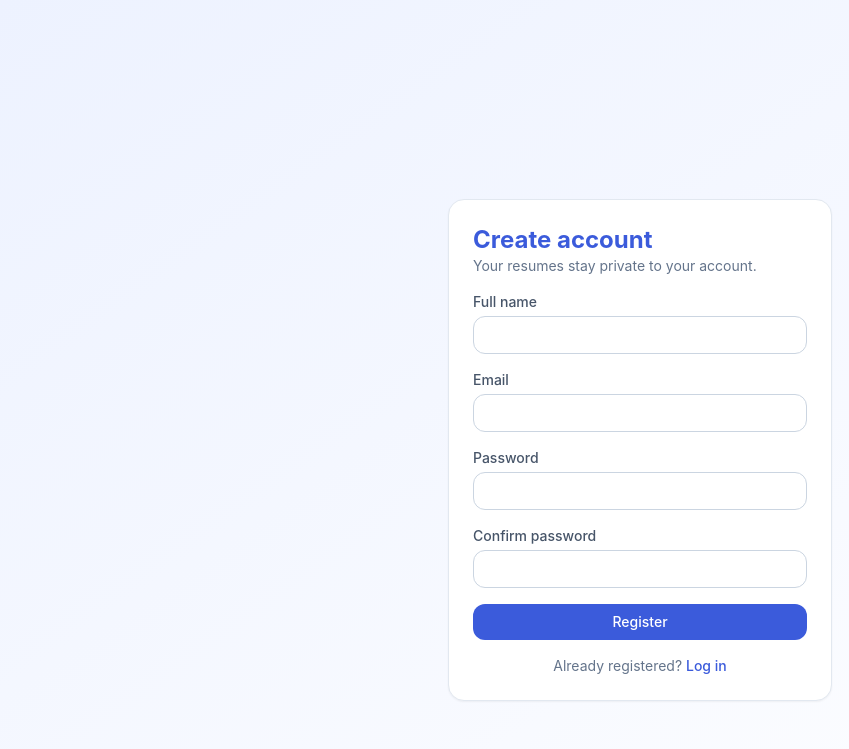
Test case: register › shows duplicate-email errors from the server
Type "Shradha" into the field labelled "Full name".
click(640, 335); type("Shradha")  # box [473,316,807,354]
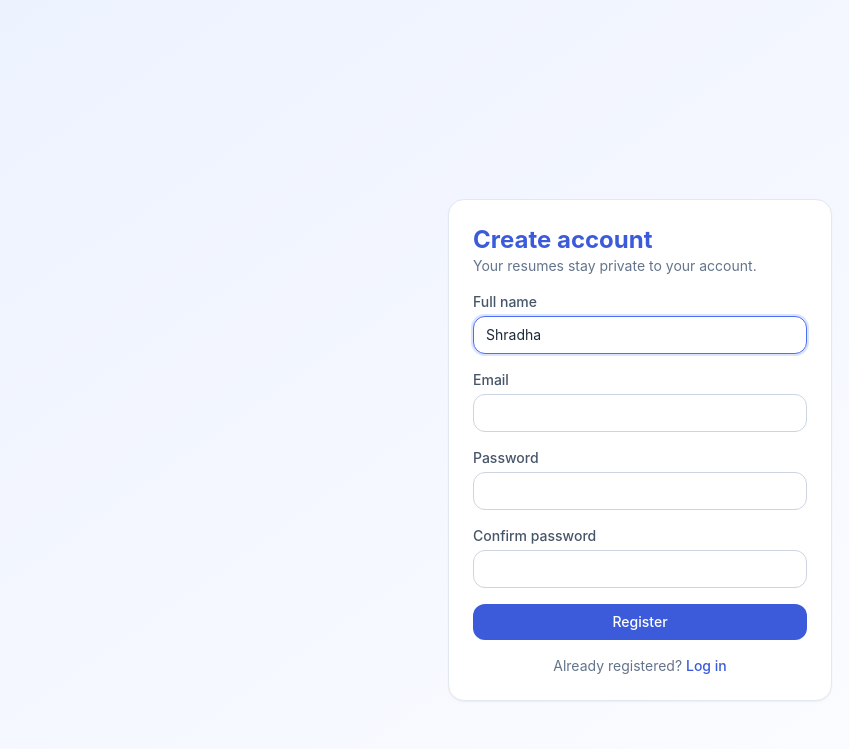
Type "s@example.com" into the field labelled "Email".
click(640, 413); type("s@example.com")  # box [473,394,807,432]
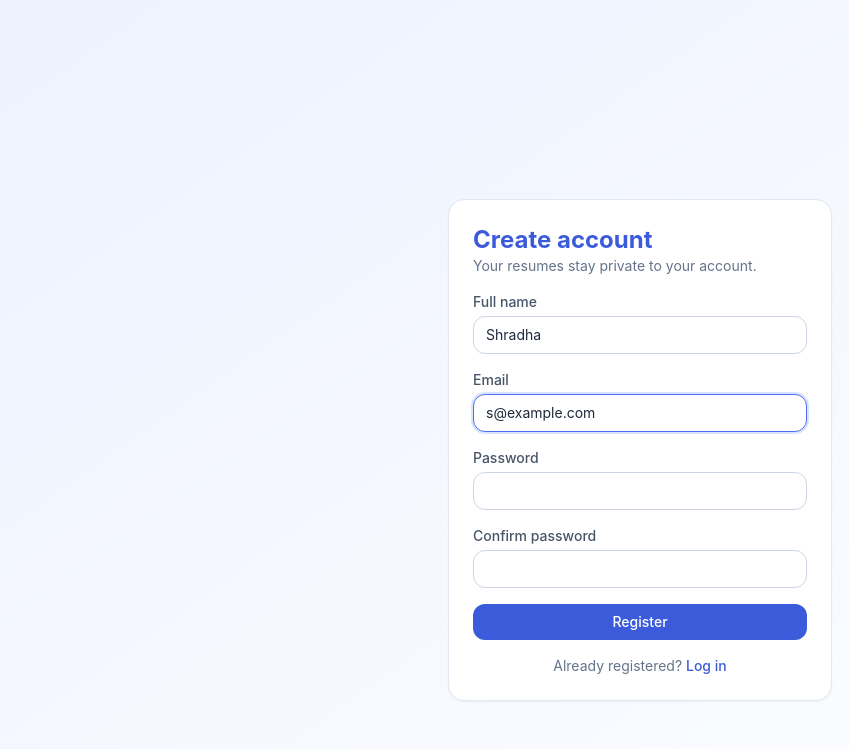
Type "Passw0rd123" into the password field labelled "Password".
click(640, 491); type("Passw0rd123")  # box [473,472,807,510]
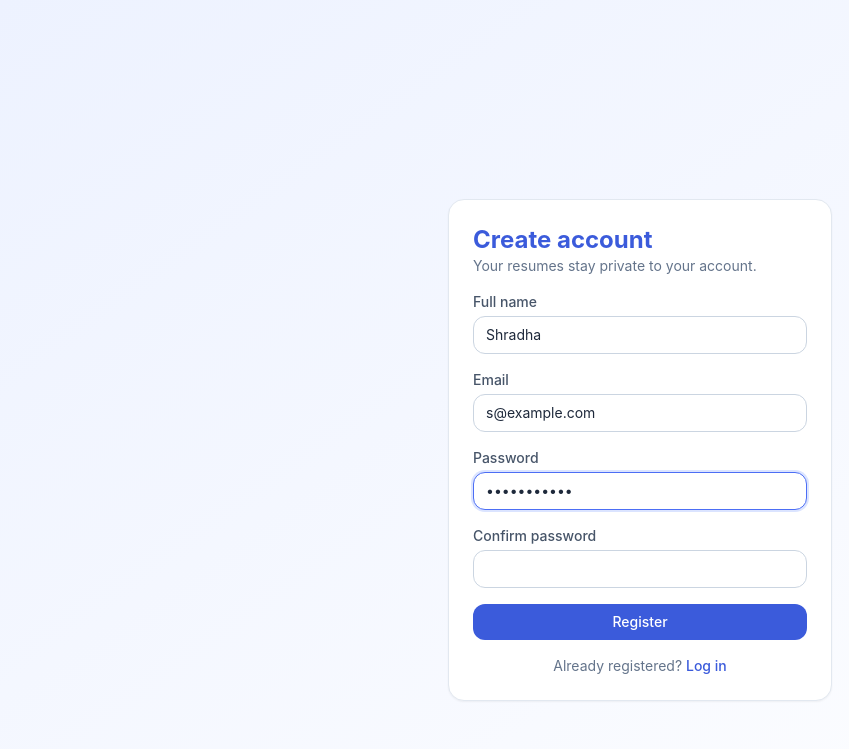
Type "Passw0rd123" into the password field labelled "Confirm password".
click(640, 569); type("Passw0rd123")  # box [473,550,807,588]
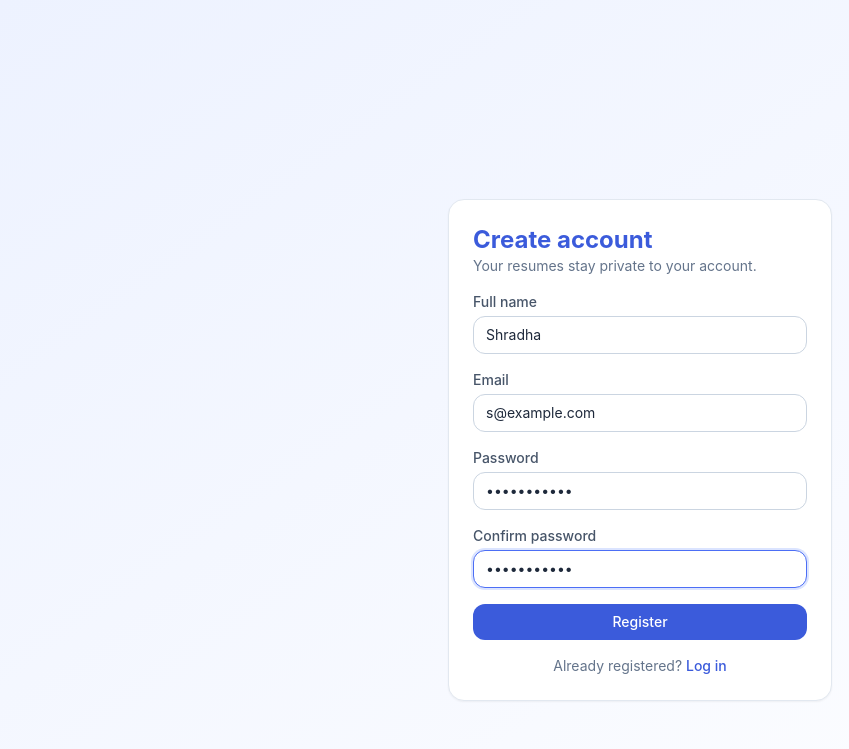
Click the button "Register".
click(640, 622)  # box [473,604,807,640]
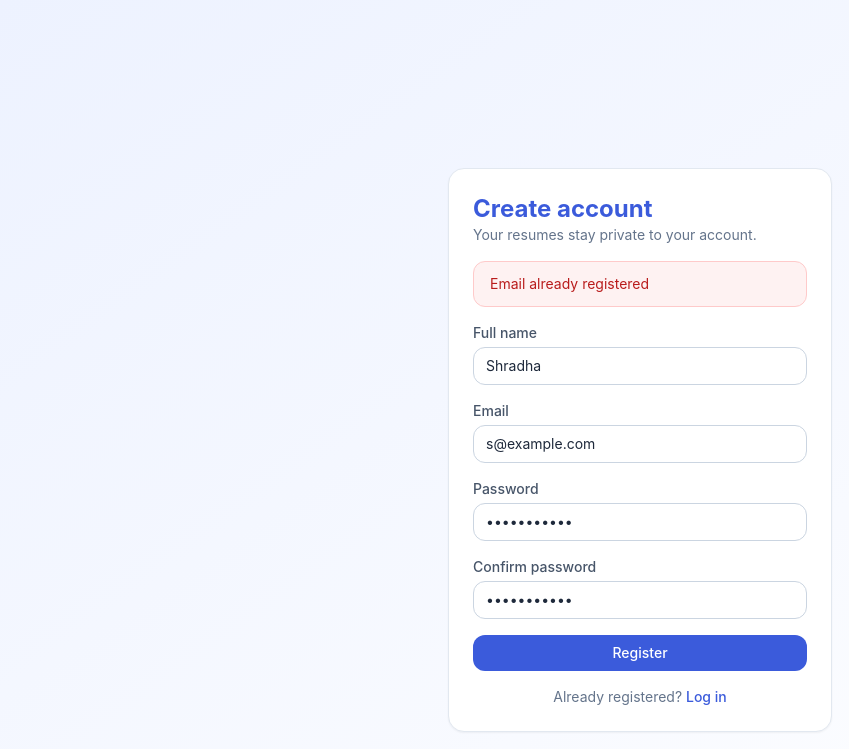
Expected: the message reads "Email already registered", [490,275,649,292]
